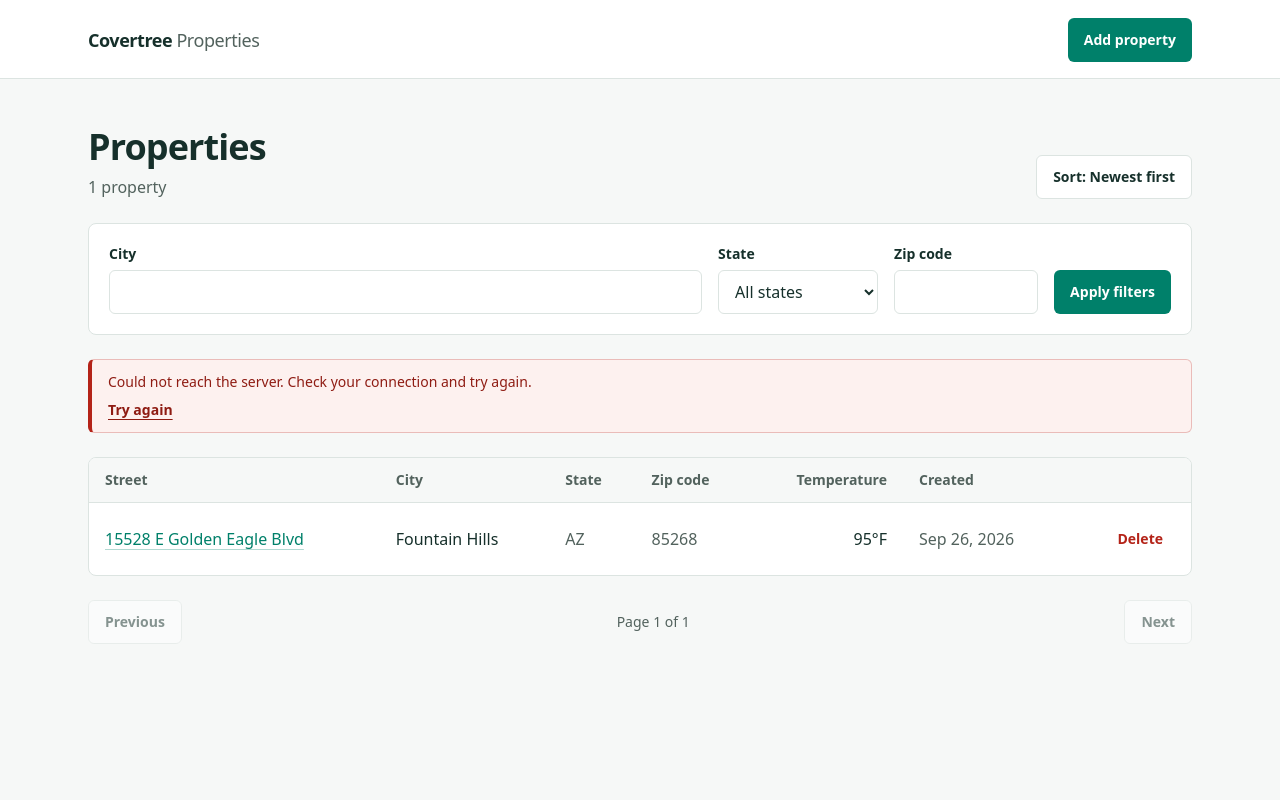
PropertyListPage › AC-W.7: shows a refresh error with a retry next to cached data
Expected: the message shows "Could not reach the server", left=108, top=372, right=532, bottom=391
Expected: the link "15528 E Golden Eagle Blvd" is shown, left=105, top=528, right=304, bottom=550
Click the button "Try again": (140, 410) left=108, top=400, right=173, bottom=420
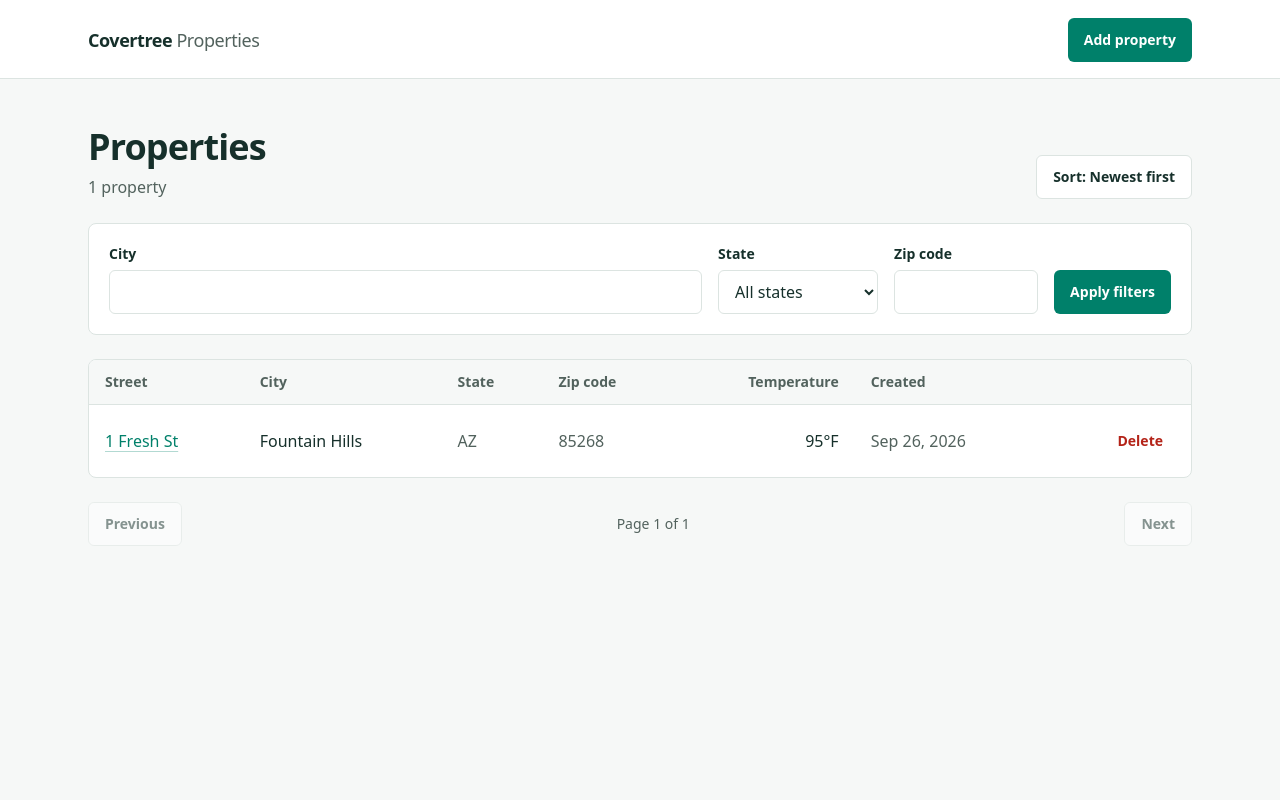
Result: the link "1 Fresh St" is shown at left=105, top=430, right=178, bottom=452
Result: the message "Could not reach the server. Check your connection and try again. Try again" is gone
